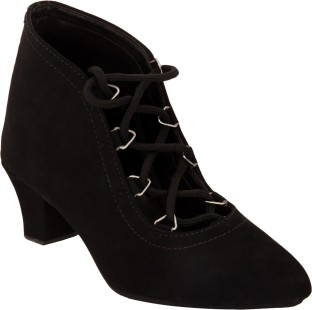Shoes: (8, 4, 312, 309)
